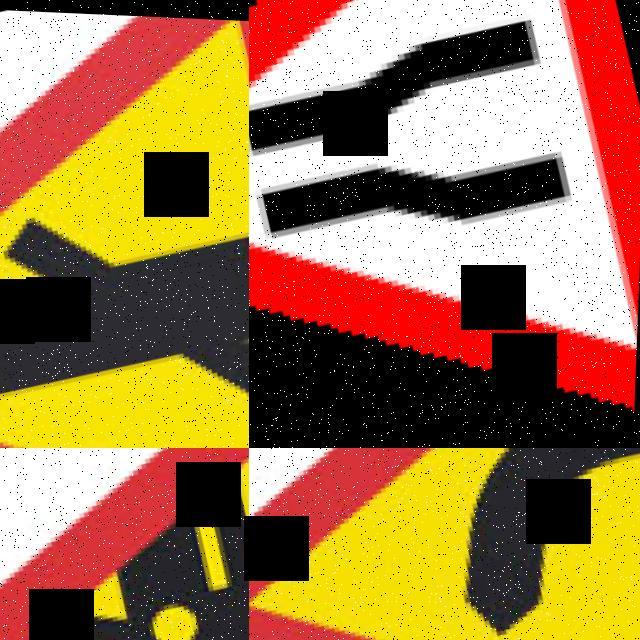137: (249, 448, 640, 640)
159: (0, 448, 249, 640)
166: (0, 0, 249, 448)
Narrow road: (249, 0, 640, 448)
